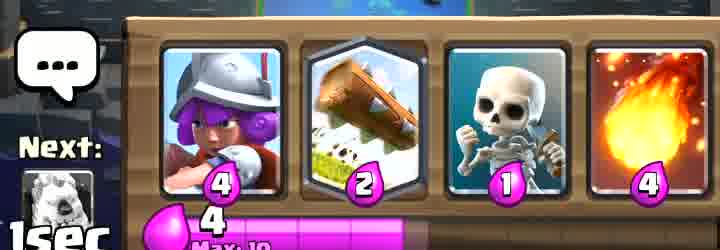fireball: (595, 46, 710, 193)
log: (310, 43, 423, 192)
musketeer: (165, 47, 282, 201)
